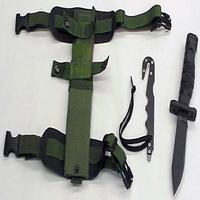knife: (168, 27, 198, 200)
